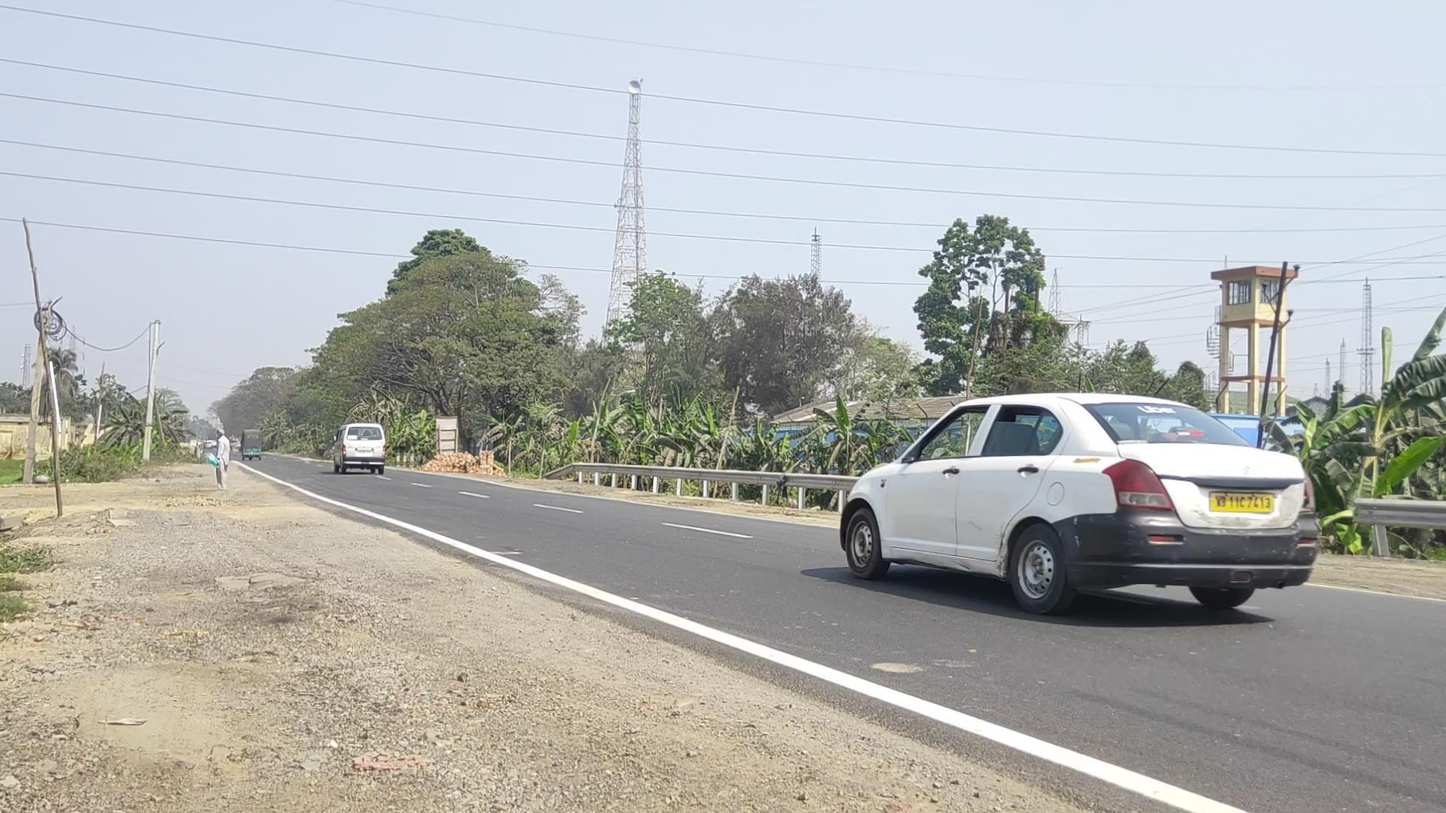Auto: (240, 428, 262, 461)
car: (838, 391, 1317, 616)
van: (333, 422, 386, 474)
